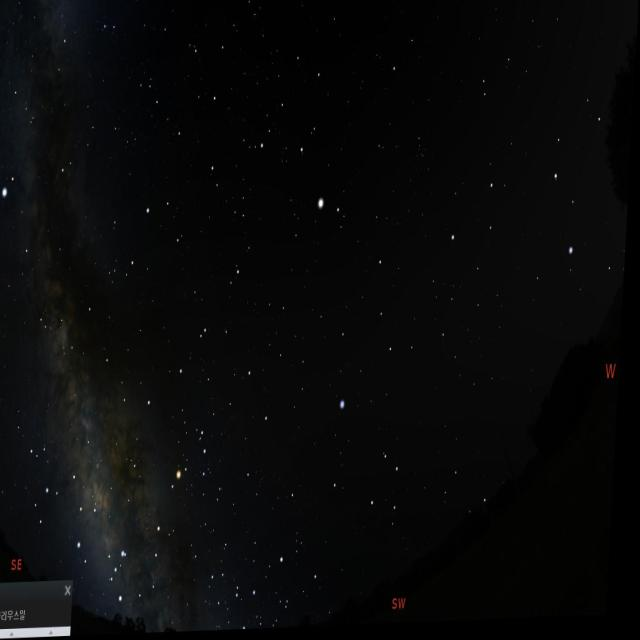aquila: (0, 149, 79, 336)
bootes: (262, 42, 363, 246)
leo: (440, 110, 604, 292)
lyra: (96, 0, 146, 48)
sagittarius: (23, 437, 122, 572)
scorpius: (115, 423, 223, 609)
